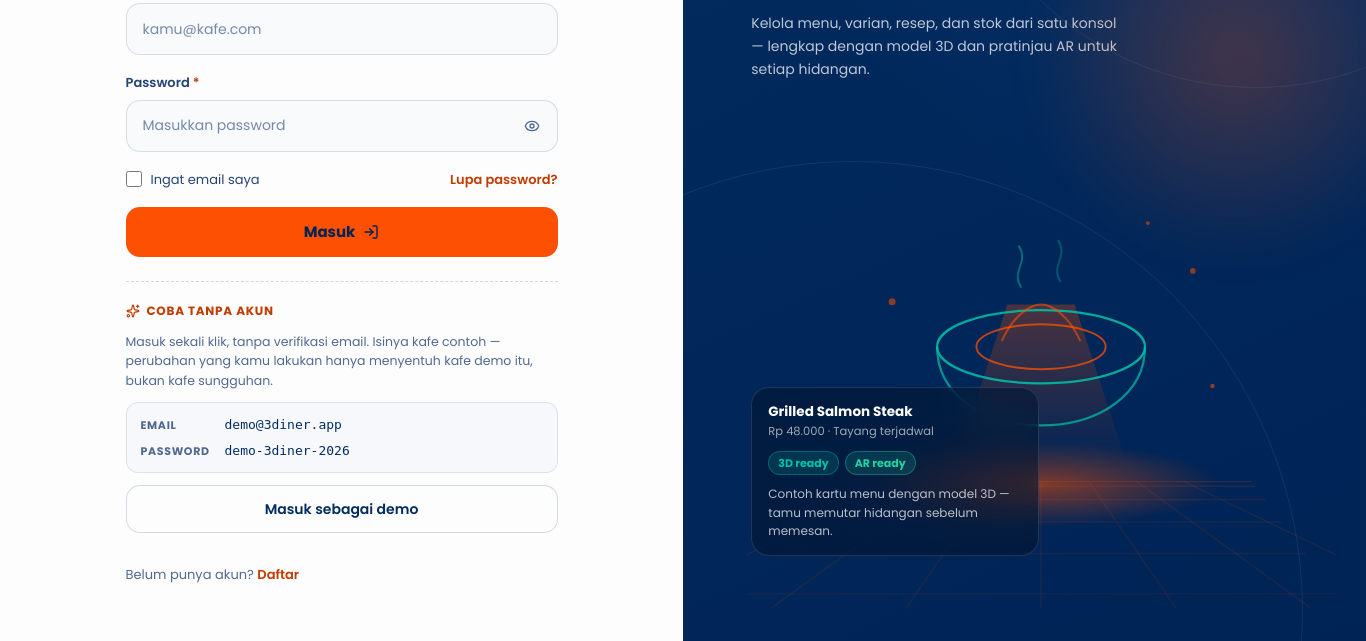
akses cepat akun demo › memakai jalur login yang sama dengan formulir biasa
The image size is (1366, 641).
(page scrolled)
Expected: the text "demo@3diner.app" is shown, 224,415 -> 342,435
Expected: the text "demo-3diner-2026" is shown, 224,441 -> 350,460
Click the button "Masuk sebagai demo" at (342, 509), box 126,485 -> 558,533
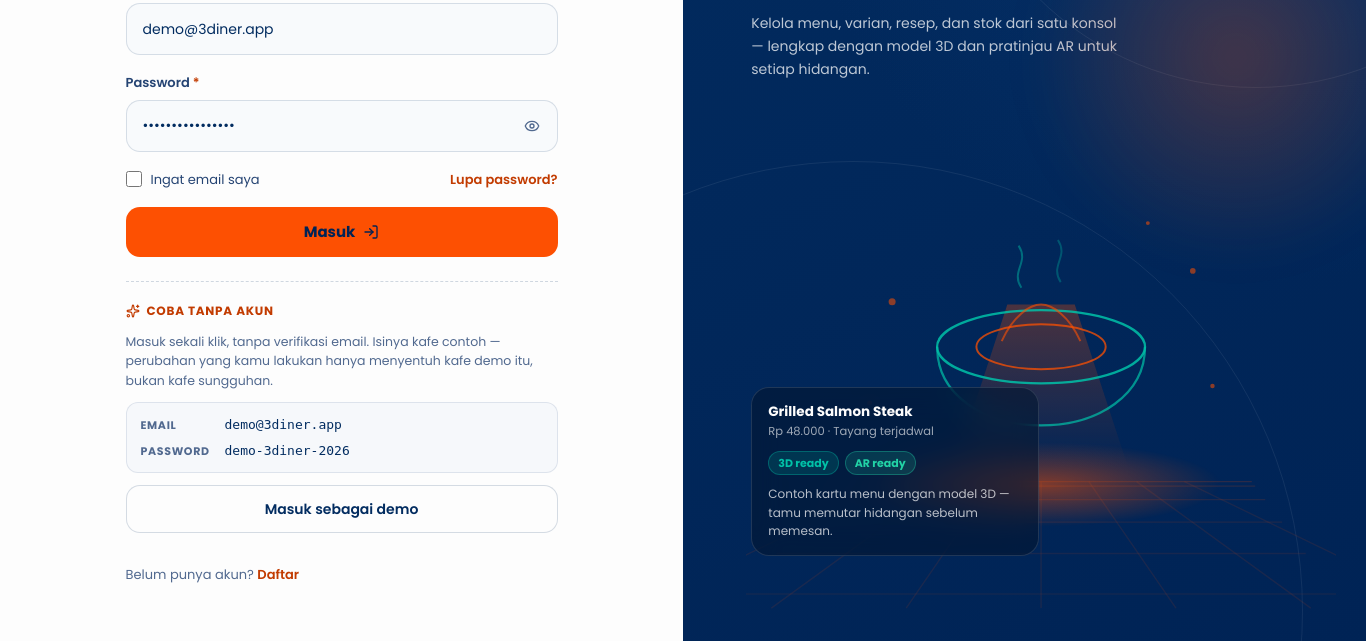
Expected: the field labelled "Email *" holds "demo@3diner.app", 126,4 -> 556,54
